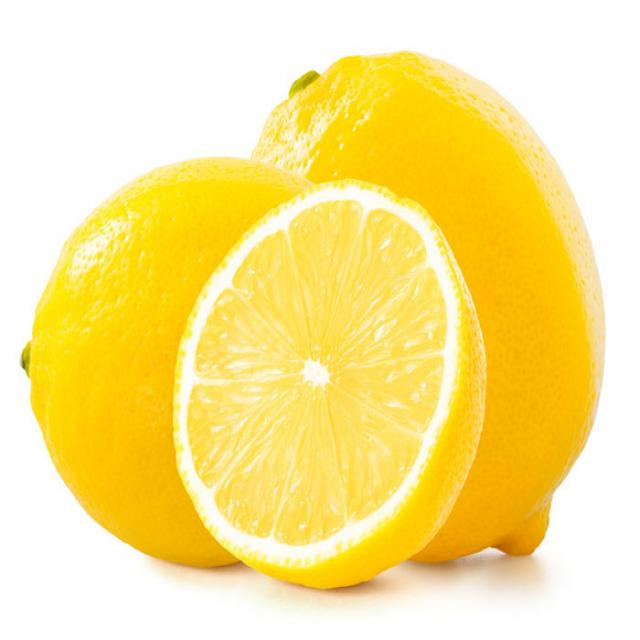lemon: (178, 238, 484, 597), (17, 146, 180, 574)
